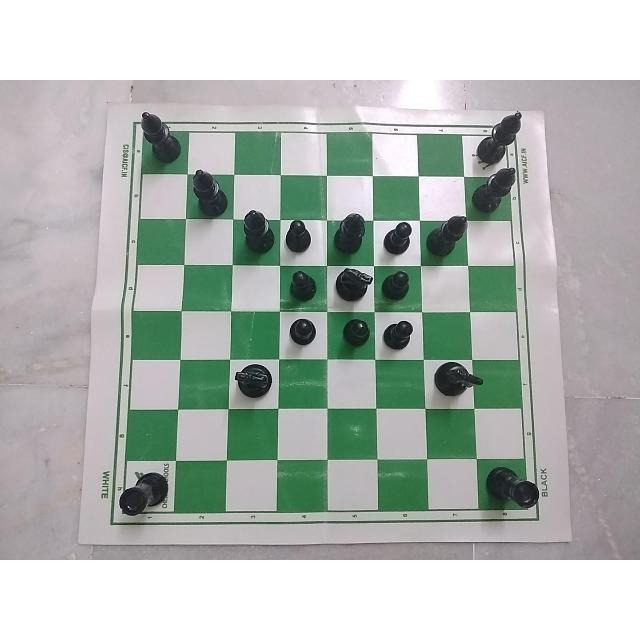black-bishop: (443, 109, 531, 160), (135, 108, 179, 172), (471, 162, 525, 211), (188, 163, 226, 225), (328, 205, 372, 257), (422, 212, 469, 256), (240, 199, 274, 259)
black-knight: (433, 360, 487, 412), (226, 360, 279, 408), (328, 261, 378, 309)
black-pawn: (378, 313, 422, 356), (333, 310, 373, 352), (377, 218, 417, 260), (284, 266, 320, 308), (284, 311, 320, 351), (283, 216, 319, 255), (384, 264, 416, 306)
black-rook: (111, 465, 177, 528), (486, 461, 542, 513)
